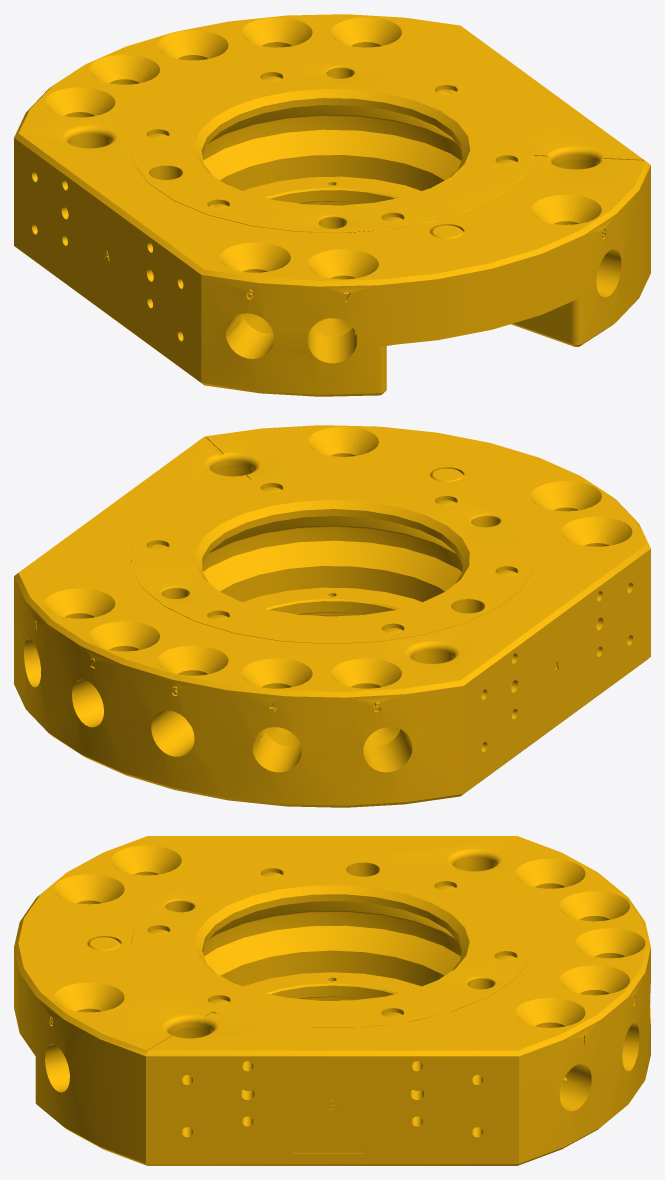
3 renders of one model, top to bottom at view 1: azimuth 30°, elevation 25°; view 2: azimuth 150°, elevation 25°; view 3: azimuth 270°, elevation 25°, orthographic.
Visible parts, largest first — view 1: node0; view 2: node0; view 3: node0.
Boxes of the visible parts, left/top/right/bottom form: node0: left=14, top=14, right=650, bottom=396; node0: left=14, top=425, right=650, bottom=807; node0: left=14, top=836, right=650, bottom=1165.
Bounding box in the file's own units: 0.1524 × 0.188 × 0.0377.
